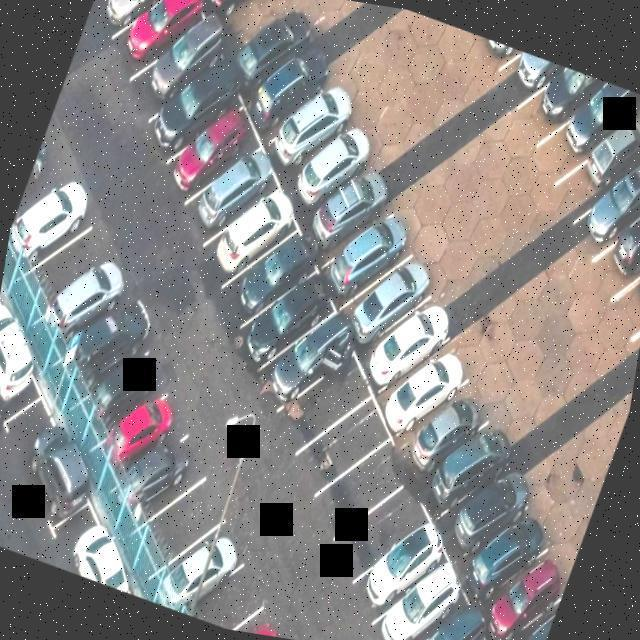car: (434, 442, 558, 586), (400, 360, 520, 507), (373, 321, 492, 461), (352, 290, 470, 427), (0, 392, 107, 536), (418, 402, 531, 538), (102, 413, 222, 538), (236, 235, 344, 372), (138, 35, 248, 168), (459, 494, 569, 624), (160, 76, 268, 205), (336, 246, 449, 368), (124, 0, 225, 135), (262, 284, 367, 412), (202, 160, 306, 288), (262, 70, 374, 188), (44, 230, 144, 362), (285, 104, 391, 228), (154, 507, 256, 629), (94, 368, 194, 492), (471, 527, 579, 640), (245, 29, 352, 143), (3, 163, 102, 285), (85, 322, 182, 443), (318, 205, 422, 316), (304, 156, 404, 268), (185, 127, 284, 240), (68, 280, 166, 394), (46, 498, 160, 596), (352, 508, 447, 625), (220, 208, 314, 321), (227, 0, 327, 100), (111, 0, 207, 95), (563, 106, 640, 214), (370, 555, 466, 640), (0, 289, 63, 418), (580, 133, 640, 254), (556, 72, 636, 160), (532, 62, 613, 148), (593, 184, 640, 297), (88, 0, 183, 52), (496, 581, 563, 640), (197, 0, 285, 43), (400, 598, 487, 640), (507, 50, 572, 98), (614, 216, 640, 327), (92, 0, 160, 20), (628, 255, 640, 367)
free: (18, 198, 118, 332), (134, 459, 239, 585), (306, 416, 412, 540), (278, 327, 374, 457), (295, 379, 392, 502), (326, 467, 428, 583), (8, 132, 83, 252), (214, 0, 314, 81), (182, 556, 280, 636)
